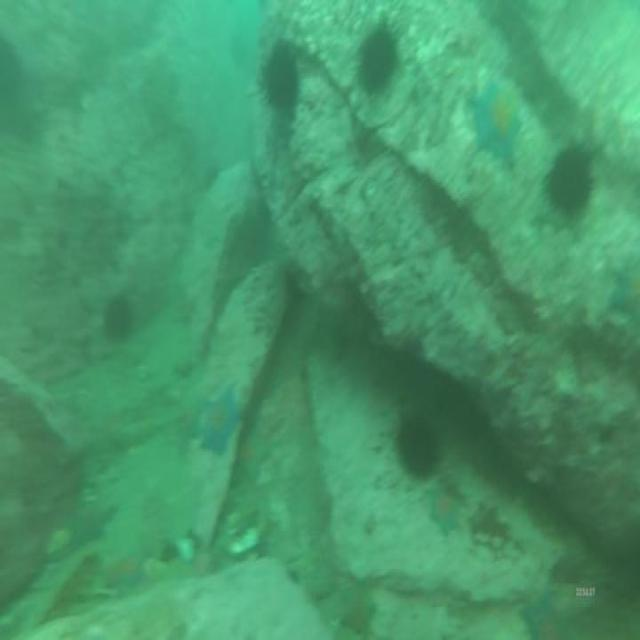echinus: (543, 138, 599, 225), (354, 19, 402, 106), (255, 33, 301, 123), (393, 411, 445, 483), (99, 286, 138, 349), (0, 35, 25, 126)
starfish: (466, 73, 526, 172), (199, 382, 245, 457), (516, 589, 578, 640), (228, 422, 274, 490), (98, 548, 151, 600), (426, 478, 466, 540)
